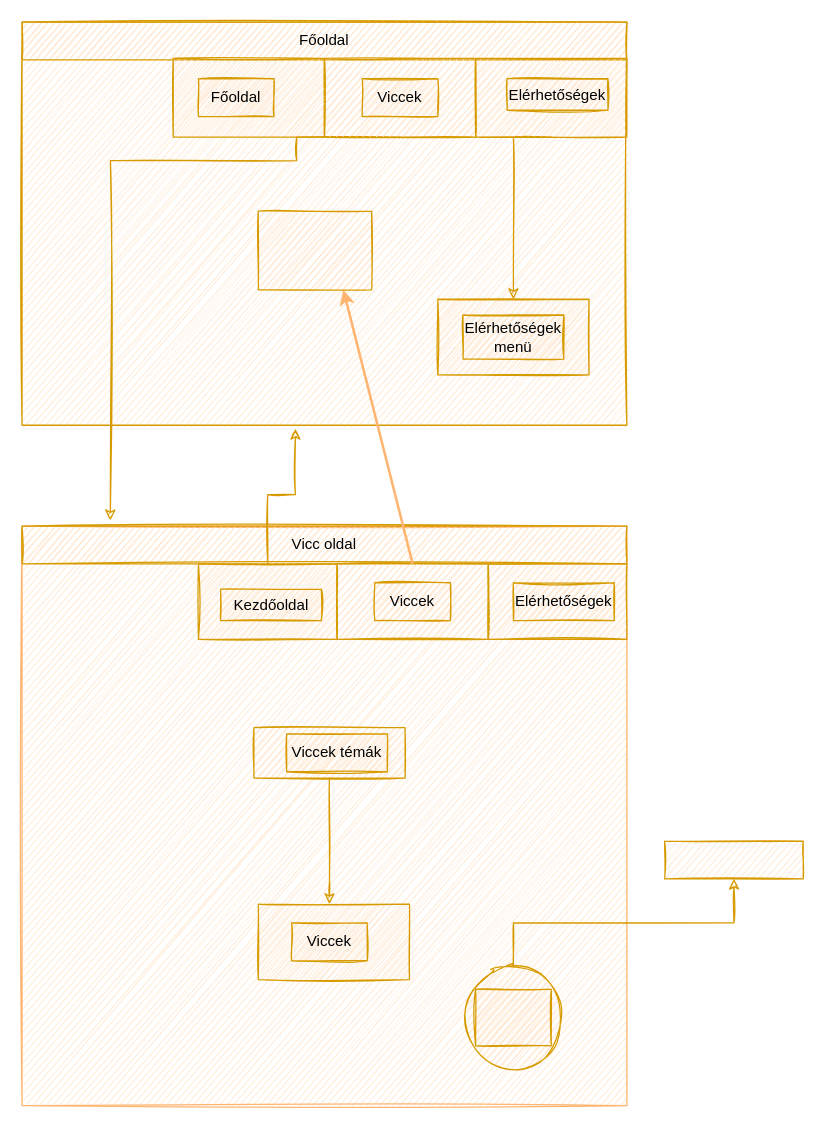
The diagram is 825 pixels wide and 1128 high, and some of its shapes have lost their labels. Each missing label, with the centre of its shape:
Oldalra felfele gomb: the point at 512,1017
Vicc témák: the point at 314,250
Vicceket tartalmazó oldal teteje: the point at 733,859
